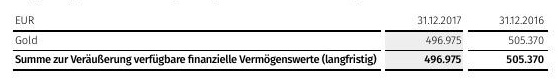table: (0, 0, 558, 84)
